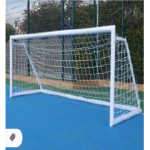goals: (7, 23, 143, 129)
